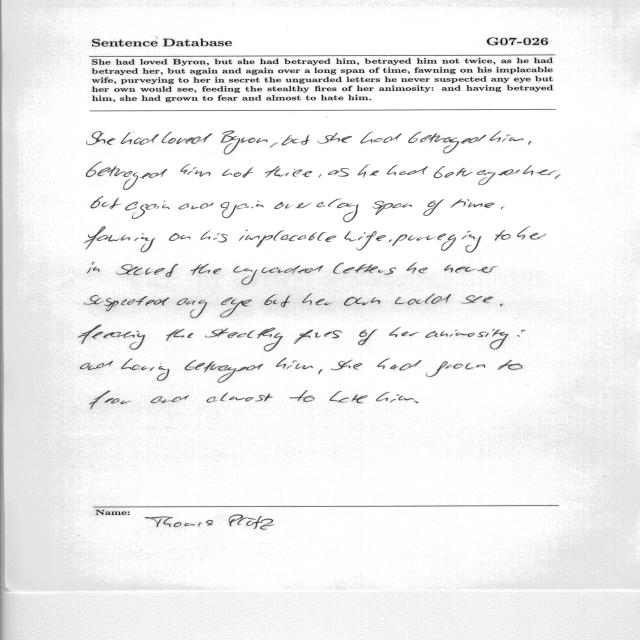word: (87, 162, 168, 190), (392, 231, 481, 253), (84, 227, 156, 253), (205, 328, 283, 352), (234, 265, 324, 285), (185, 360, 263, 383), (409, 132, 487, 154), (425, 329, 509, 349), (78, 325, 145, 350), (239, 230, 336, 247), (434, 166, 520, 185), (85, 295, 170, 311), (121, 358, 169, 381), (221, 131, 268, 154), (426, 361, 485, 377), (125, 200, 170, 219), (334, 262, 397, 275), (116, 264, 178, 277), (344, 231, 386, 250), (90, 391, 131, 410), (220, 201, 264, 218), (294, 329, 342, 344), (328, 199, 358, 222), (207, 393, 274, 403), (220, 298, 252, 318), (395, 294, 451, 305), (162, 132, 212, 144), (177, 298, 207, 318), (372, 201, 412, 215), (377, 359, 422, 371), (265, 166, 312, 177), (121, 132, 159, 145), (360, 132, 402, 143), (330, 391, 368, 403), (444, 265, 498, 273), (517, 226, 547, 240), (387, 165, 428, 175), (276, 358, 313, 369), (86, 131, 115, 145), (451, 199, 495, 208), (91, 196, 121, 209), (317, 133, 352, 144), (377, 392, 415, 402), (490, 131, 524, 142), (181, 164, 211, 176), (423, 199, 444, 216), (302, 294, 331, 306), (222, 167, 253, 178), (191, 264, 222, 275), (523, 165, 557, 175), (265, 295, 291, 308), (200, 231, 228, 243), (344, 297, 380, 306), (167, 329, 194, 341), (331, 360, 362, 370), (358, 329, 377, 345), (151, 395, 189, 403), (389, 327, 419, 337), (290, 390, 315, 402), (80, 361, 113, 370), (358, 164, 379, 178), (281, 135, 310, 145), (461, 295, 493, 304), (497, 360, 523, 370), (275, 202, 311, 209), (179, 203, 214, 210), (407, 262, 428, 273), (328, 168, 349, 177), (169, 233, 191, 241), (495, 230, 511, 241), (88, 262, 100, 273), (517, 330, 525, 337), (317, 202, 326, 207), (270, 143, 278, 148), (555, 175, 560, 179), (319, 370, 323, 375), (528, 141, 532, 145), (501, 304, 504, 307), (319, 174, 321, 178), (415, 401, 419, 403), (389, 240, 392, 242), (501, 207, 503, 209)
